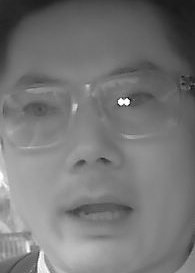eye: (19, 99, 59, 120)
glass: (98, 73, 179, 137), (4, 86, 72, 148)
mouth: (62, 191, 143, 242)
